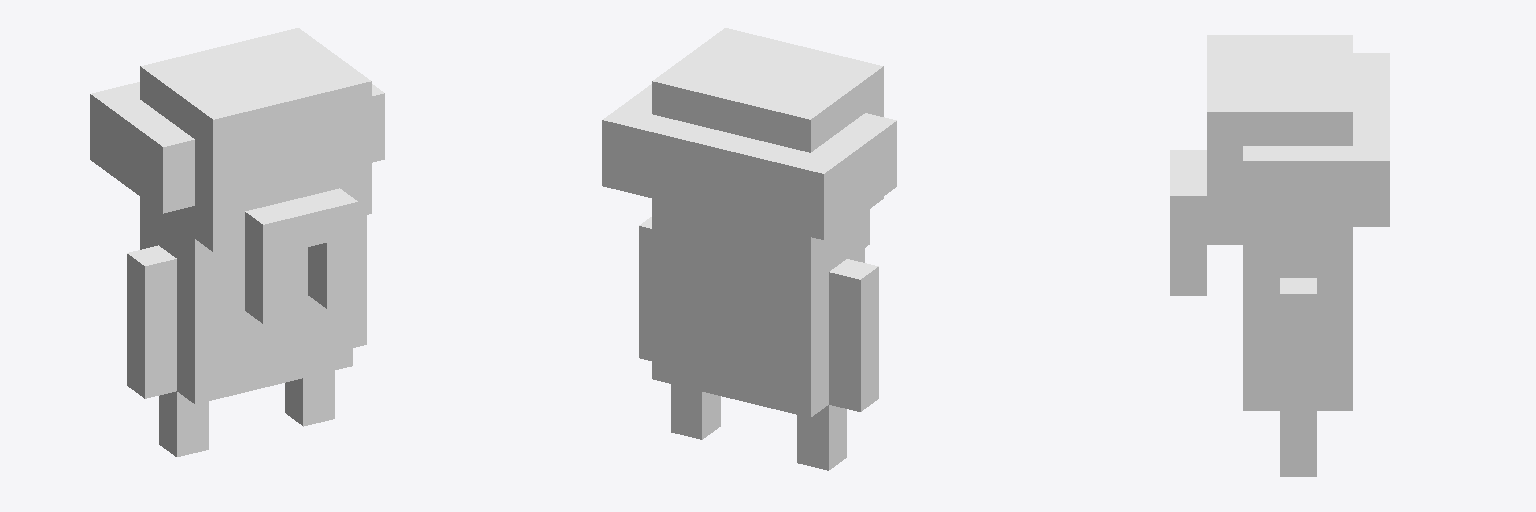
File: statist.obj
3 views of the same model, side by side, from view 1: azimuth 30°, elevation 25°; view 2: azimuth 150°, elevation 25°; view 3: azimuth 270°, elevation 25° (orthographic).
Size of the model in its own units: 7 by 11 by 6.